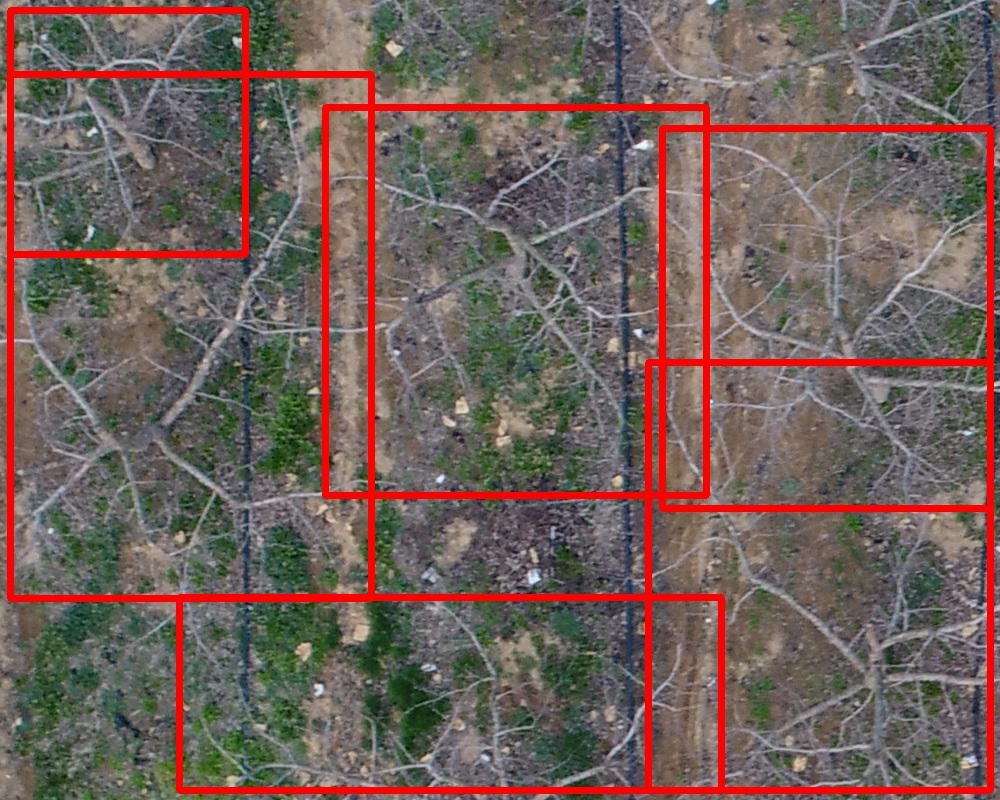apple: (10, 74, 371, 598), (325, 107, 706, 495), (648, 362, 990, 790), (662, 128, 990, 508), (179, 597, 721, 790), (10, 10, 245, 254)
